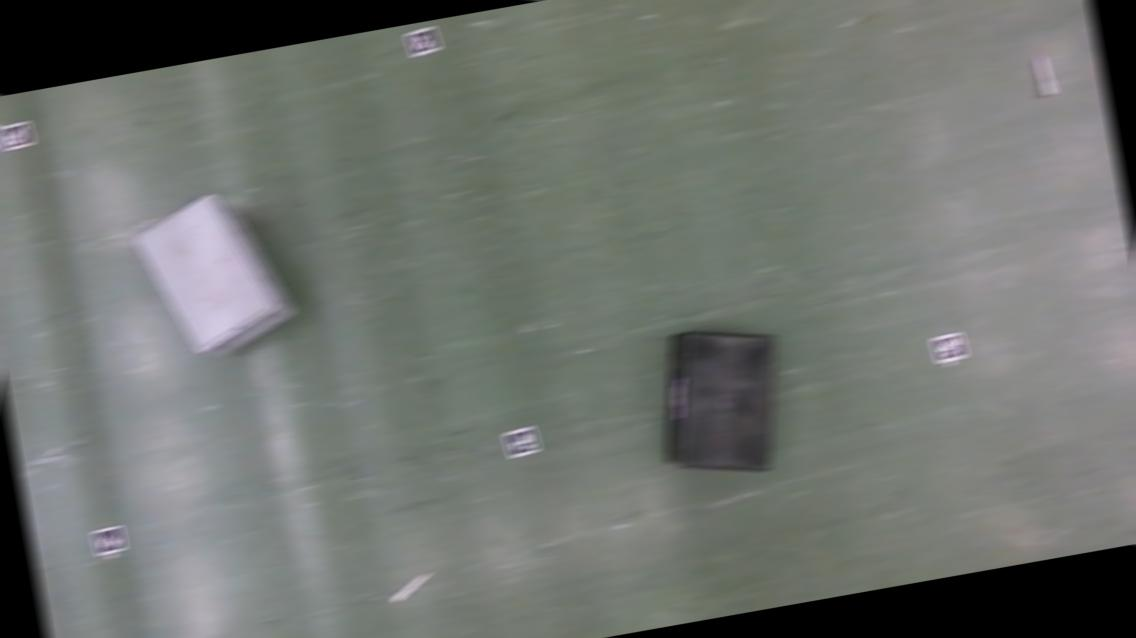probes: (389, 572, 433, 602), (1033, 54, 1054, 98)
rako: (129, 183, 302, 368), (643, 318, 798, 490)
